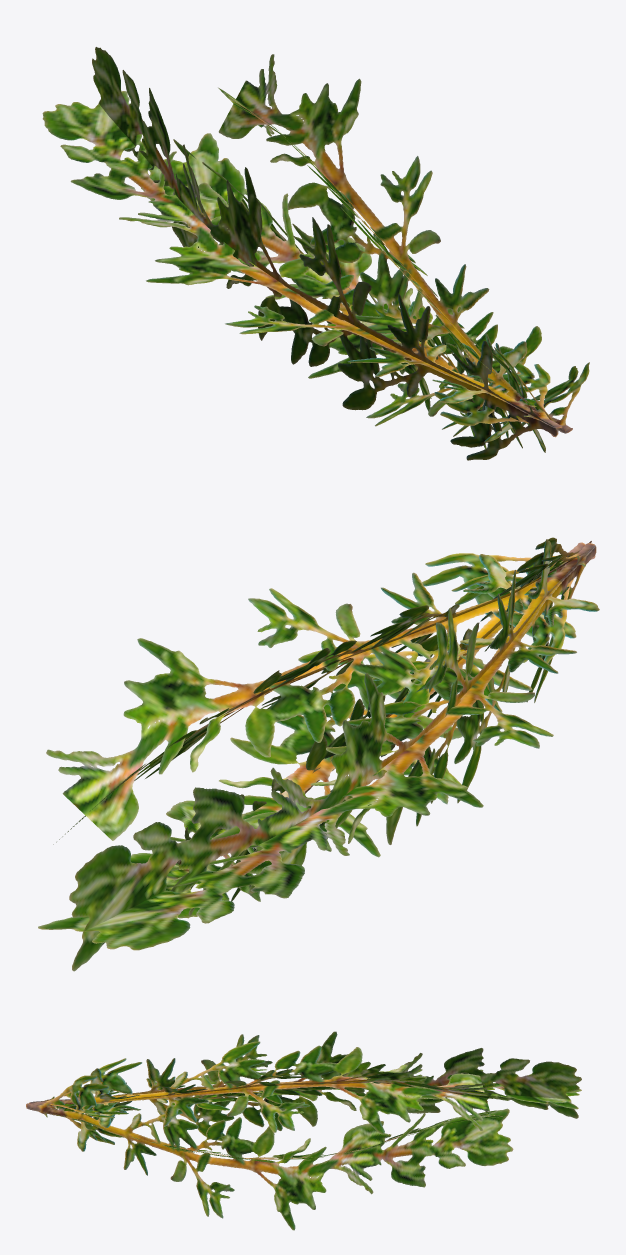
Rendered from Thyme.fbx.
3 renders of one model, top to bottom at view 1: azimuth 30°, elevation 25°; view 2: azimuth 150°, elevation 25°; view 3: azimuth 270°, elevation 25°, orthographic. The views are drawn at different scales.
Parts seen in each view (by area): view 1: Thyme; view 2: Thyme; view 3: Thyme.
Boxes of the visible parts, x1=… form: Thyme: x1=42, y1=47, x2=589, y2=460; Thyme: x1=38, y1=537, x2=599, y2=971; Thyme: x1=26, y1=1031, x2=581, y2=1230.
Size of the model in its own units: 0.0366 by 0.1034 by 0.0347.
